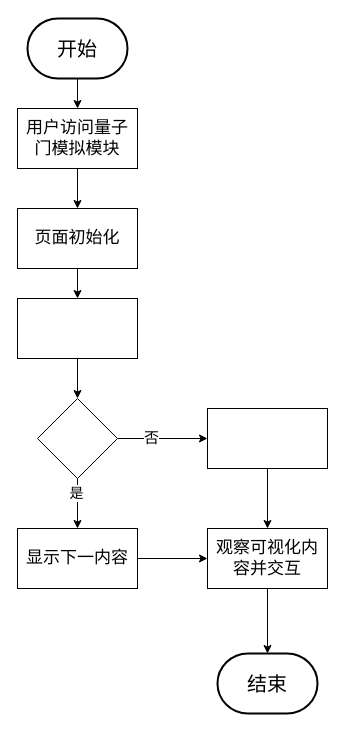
Some shapes in this 345 by 731 pixel diagram are drawn without their labels. Here are the shapes that lost their labels. From the top down, the box of each, then its label:
(16, 298, 138, 358): 通过鼠标滚动选择可 视 化 内容
(36, 398, 118, 478): 是否滚动 到合适位置
(206, 408, 328, 468): 显示当前内容
